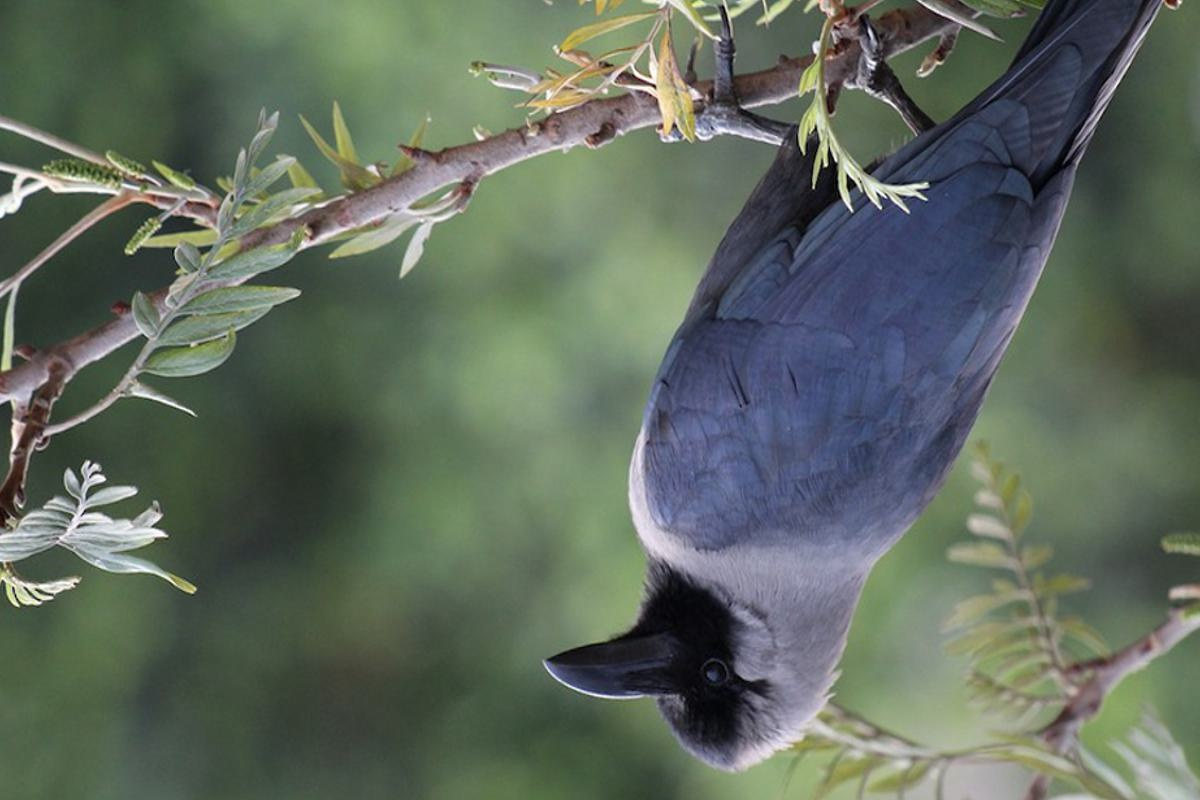crow: (534, 1, 1131, 771)
